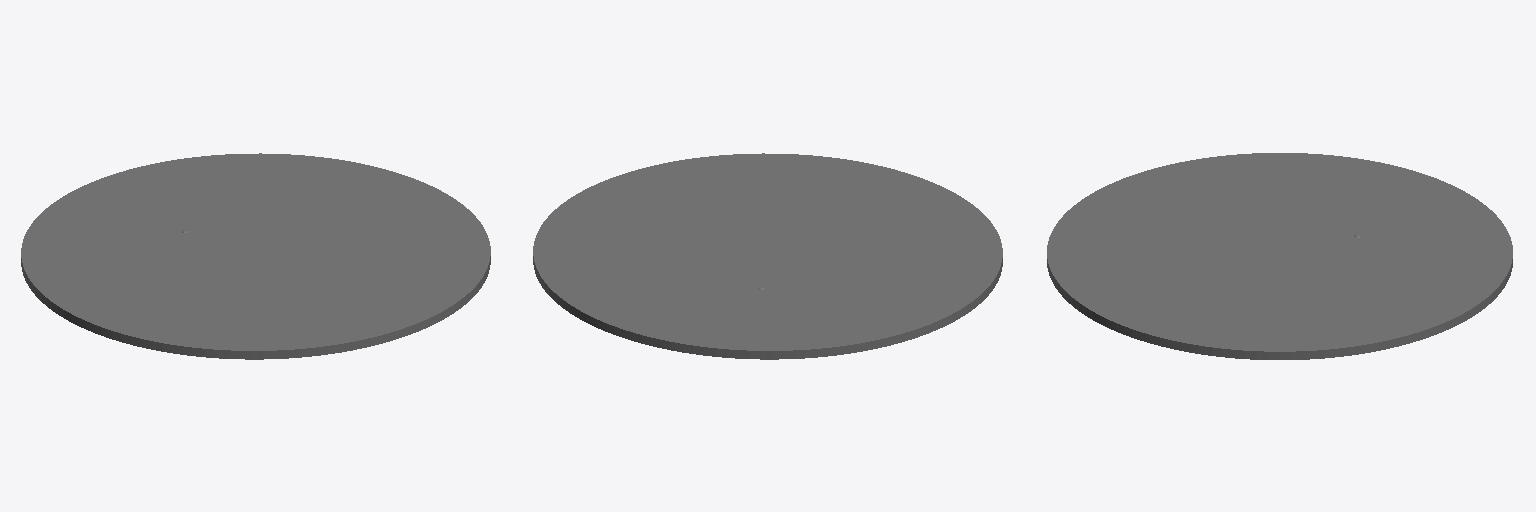
Rendered from Disco.obj.
The picture shows the model from 3 angles: view 1: azimuth 30°, elevation 25°; view 2: azimuth 150°, elevation 25°; view 3: azimuth 270°, elevation 25°; orthographic projection.
Parts seen in each view (by area): view 1: Disco_lp; view 2: Disco_lp; view 3: Disco_lp.
Part boxes in pixels (x1,y1,x2,y2): Disco_lp: (21,153,490,359); Disco_lp: (533,153,1002,359); Disco_lp: (1047,153,1512,359).
Bounding box in the file's own units: 4.97 × 0.1125 × 4.92.